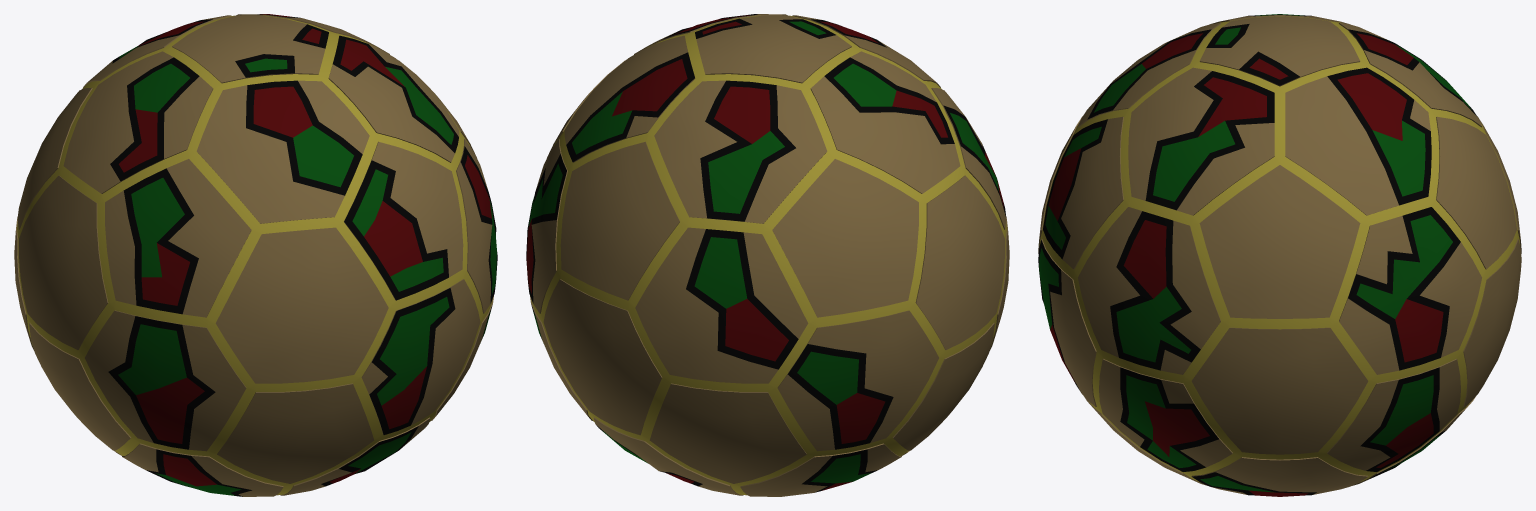
File: KNVB BALL TEXT.fbx
The picture shows the model from 3 angles, left to right: view 1: azimuth 30°, elevation 25°; view 2: azimuth 150°, elevation 25°; view 3: azimuth 270°, elevation 25°; orthographic projection.
Parts seen in each view (by area): view 1: Icosphere (×5); view 2: Icosphere (×5); view 3: Icosphere (×5).
Part boxes in pixels (x1,y1,x2,y2): Icosphere (×5): (14, 14, 497, 496); Icosphere (×5): (526, 14, 1009, 496); Icosphere (×5): (1038, 14, 1521, 496).
Size of the model in its own units: 168 by 168 by 168.
